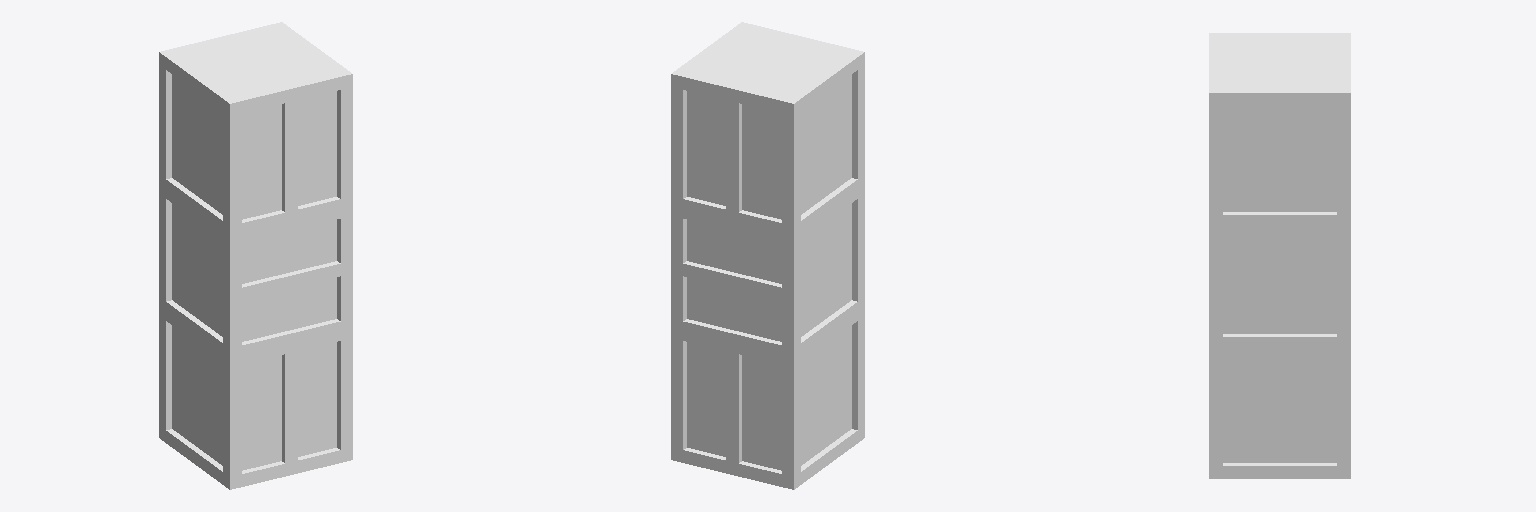
The model's file is Tower.obj.
3 views of the same model, side by side, from view 1: azimuth 30°, elevation 25°; view 2: azimuth 150°, elevation 25°; view 3: azimuth 270°, elevation 25° (orthographic).
Size of the model in its own units: 20 by 60 by 20.